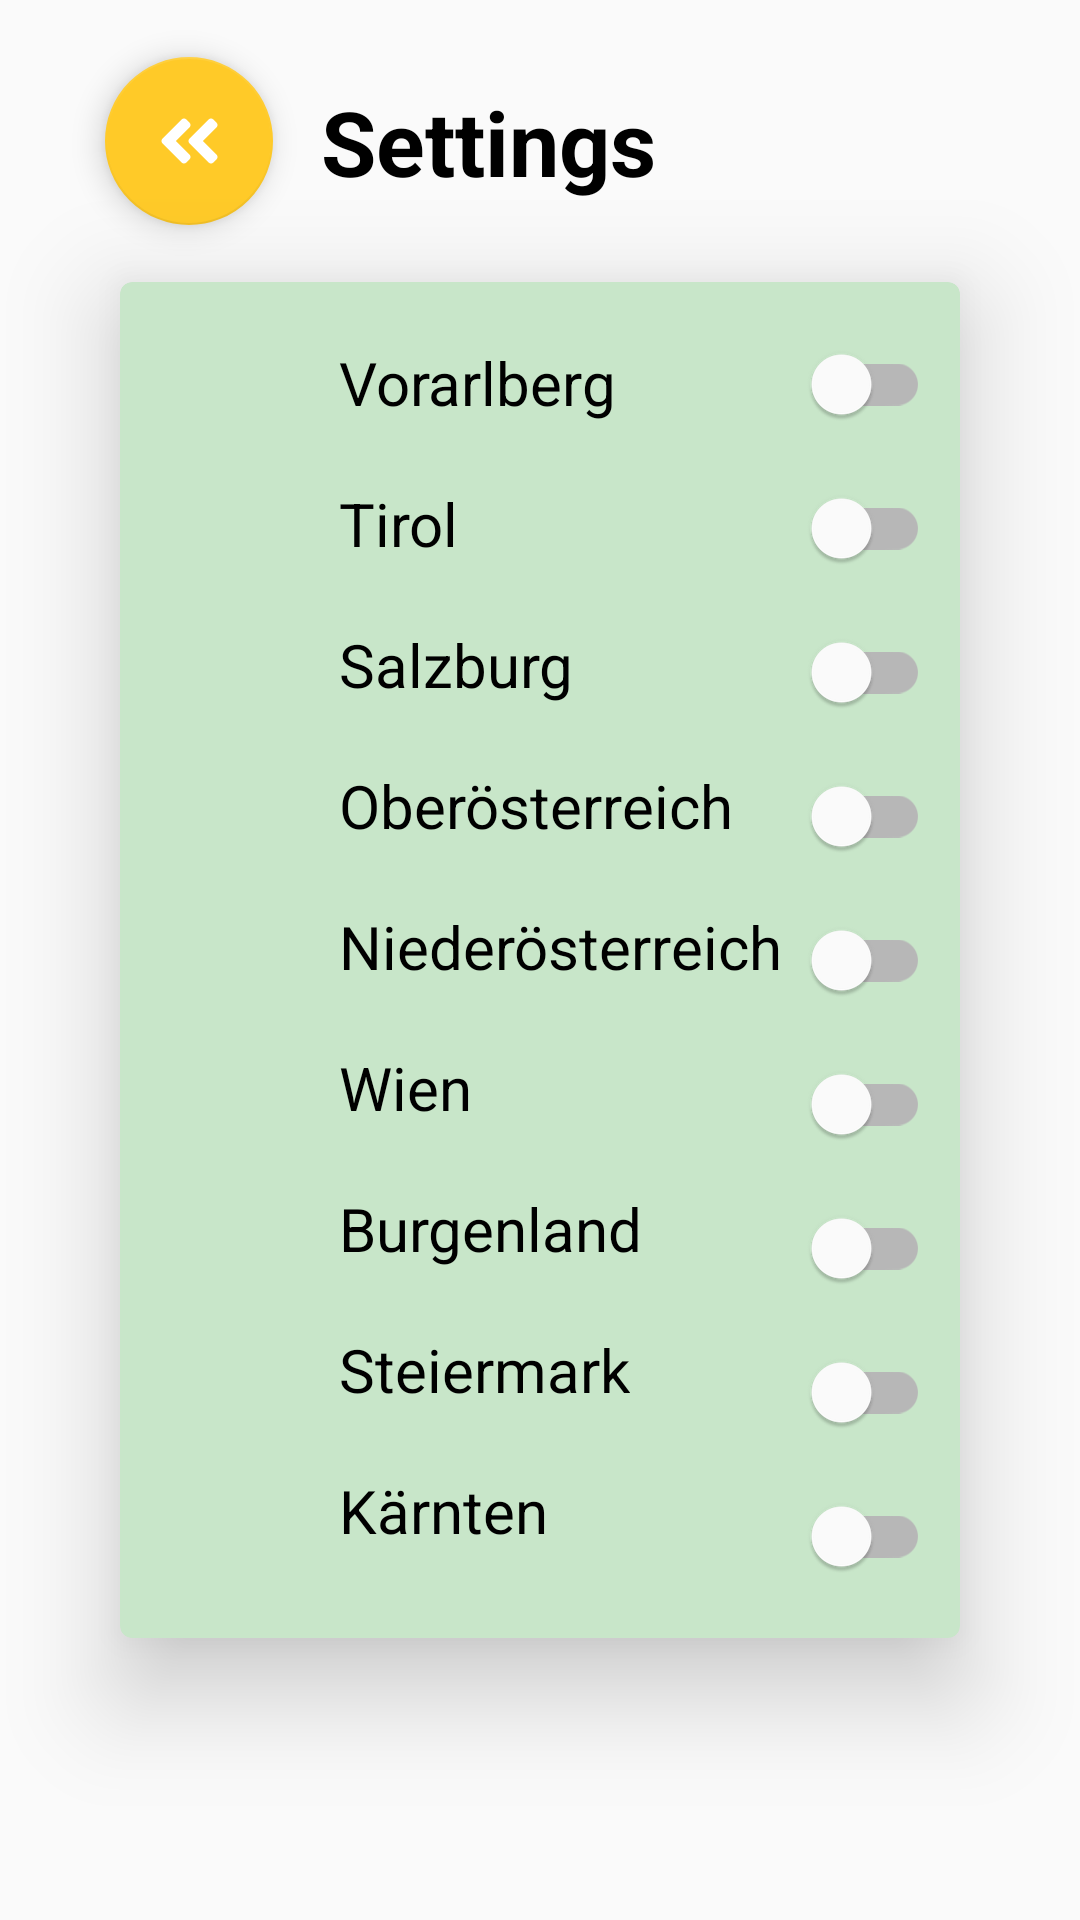

Icons on this 1080w x 1920h Android screen, each with the point to tap as (x=x, y=y):
angle double left: (x=189, y=141)
